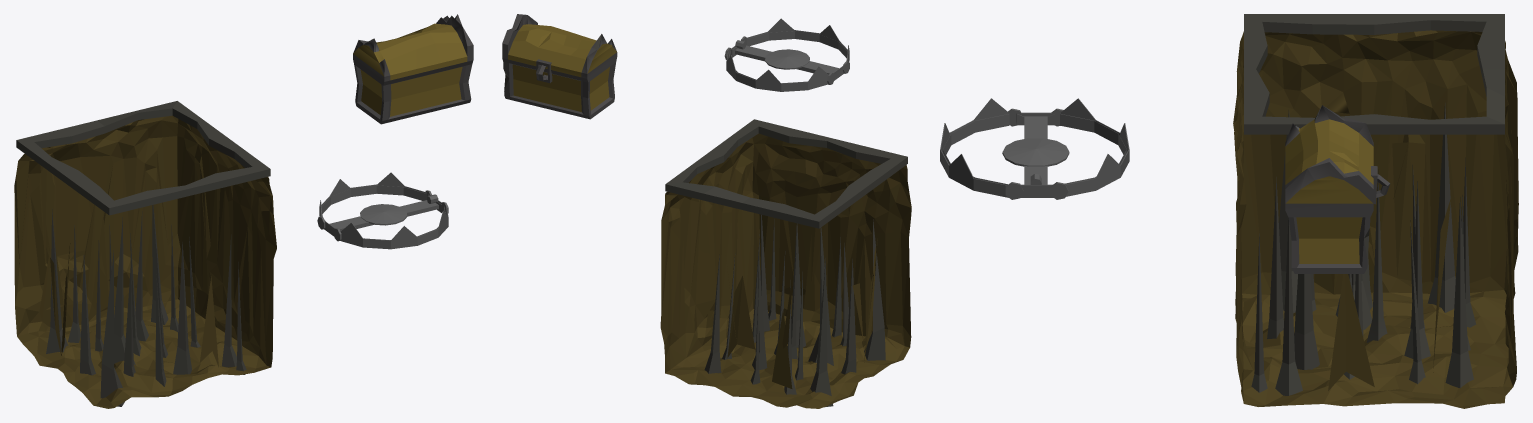
The model's file is traps.fbx.
3 renders of one model, left to right at view 1: azimuth 30°, elevation 25°; view 2: azimuth 150°, elevation 25°; view 3: azimuth 270°, elevation 25°, orthographic. The views are drawn at different scales.
Parts seen in each view (by area): view 1: FloorTrap.001, Chest, Circle.003, Circle.001, Circle; view 2: FloorTrap.001, Chest, Circle.003, Circle, Circle.001; view 3: FloorTrap.001, Chest, Circle.003, Circle.001, Circle.
Boxes of the visible parts, x1,y1,x2,y2 form: FloorTrap.001: (14,101,276,408); Chest: (353,14,473,124); Circle.003: (317,190,448,241); Circle.001: (339,206,448,249); Circle: (319,172,426,216); FloorTrap.001: (660,119,911,408); Chest: (502,14,617,119); Circle.003: (724,36,849,84); Circle: (726,51,828,91); Circle.001: (747,18,849,61); FloorTrap.001: (1233,14,1518,408); Chest: (1285,105,1390,273); Circle.003: (1002,108,1069,199); Circle.001: (940,98,1009,197); Circle: (1060,98,1129,196).
Size of the model in its own units: 481 by 344 by 443.
